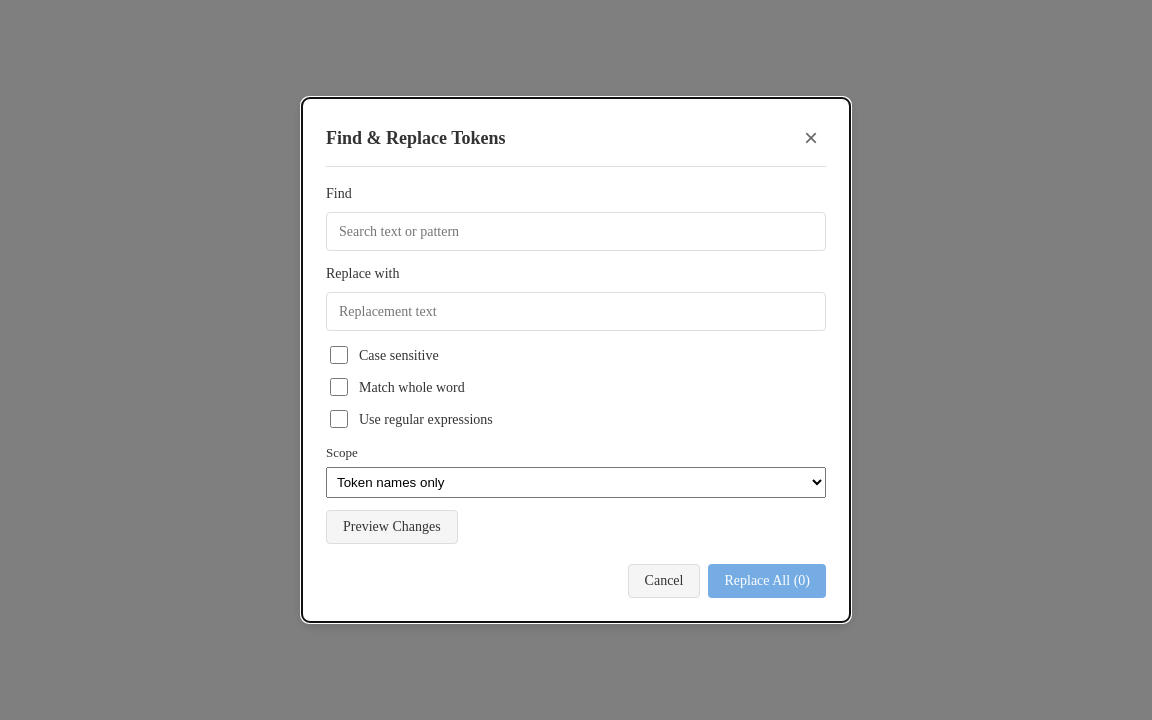
Test: FindReplace › Preview Functionality › handles case-insensitive preview
The width and height of the screenshot is (1152, 720).
In the field with placeholder "Search text or pattern": [576, 232] box [326,212,826,251], type "primary"
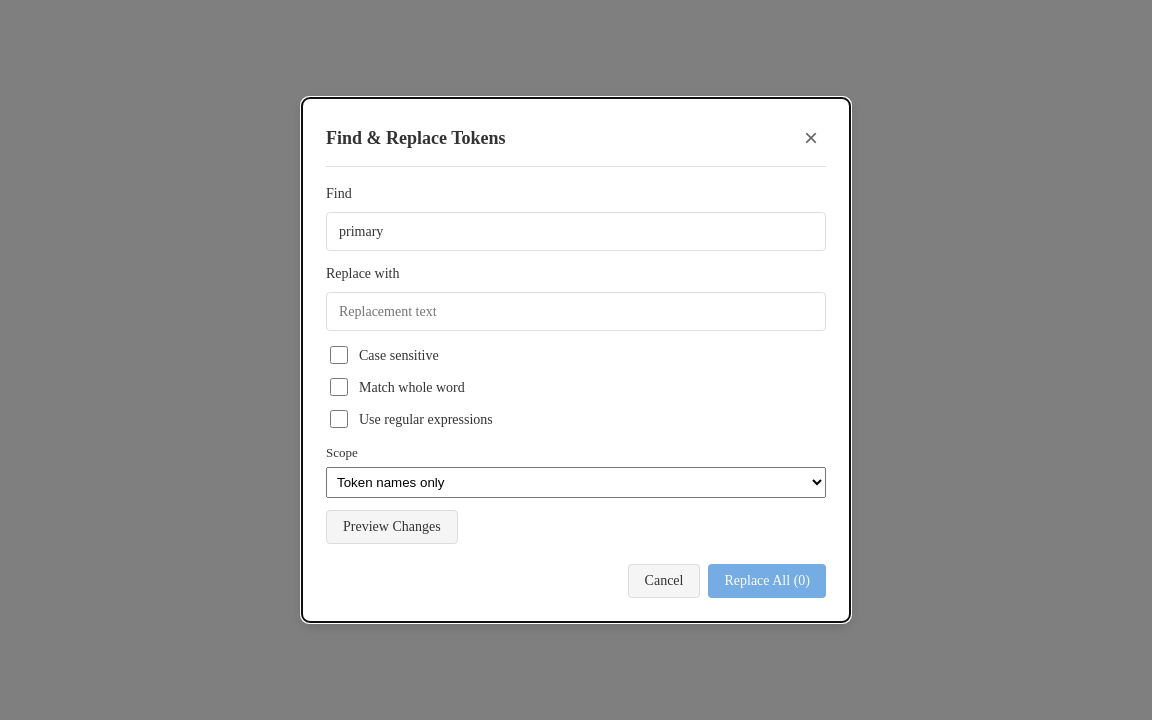
In the field with placeholder "Replacement text": [576, 312] box [326,292,826,331], type "main"
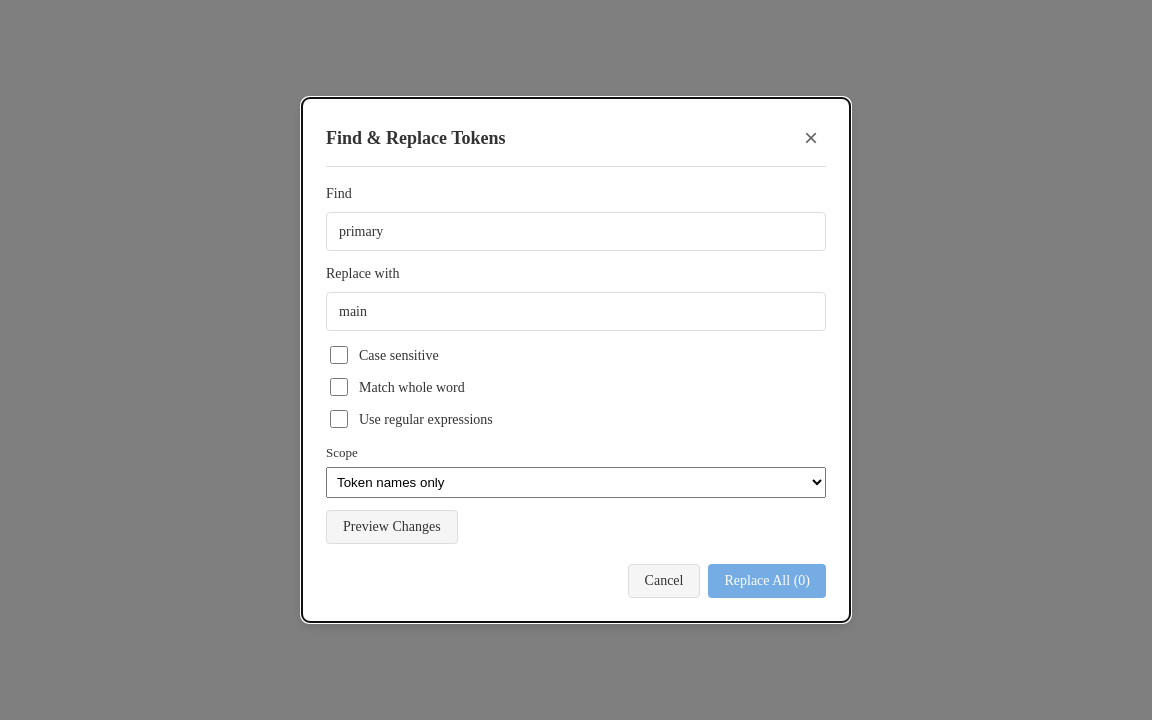
Click the button "Preview Changes": [392, 527] box [326,510,458,544]
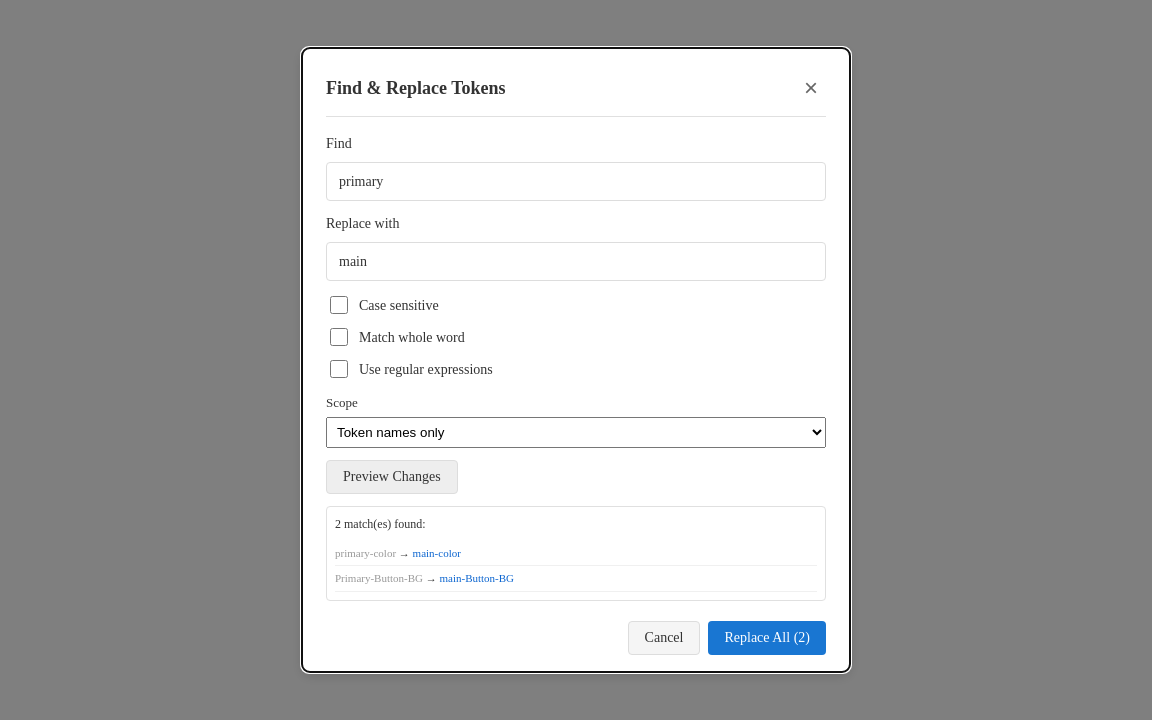
Result: the text "2 match(es) found:" is shown at [335,516,426,530]
